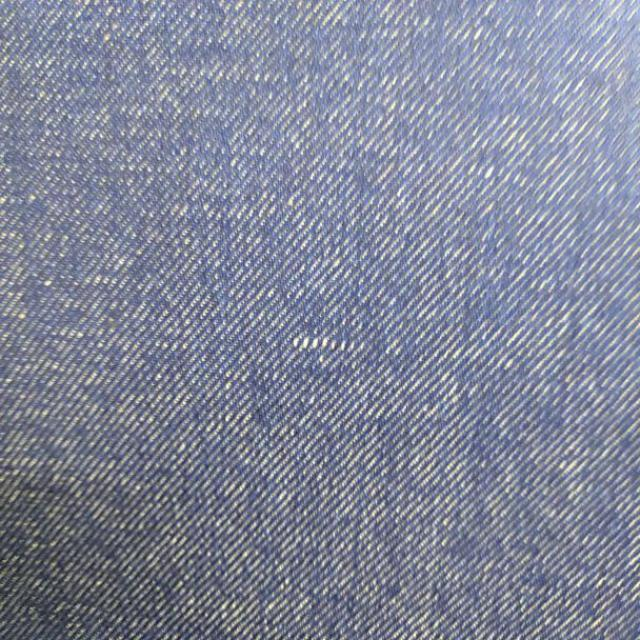Knot: (293, 337, 354, 351)
